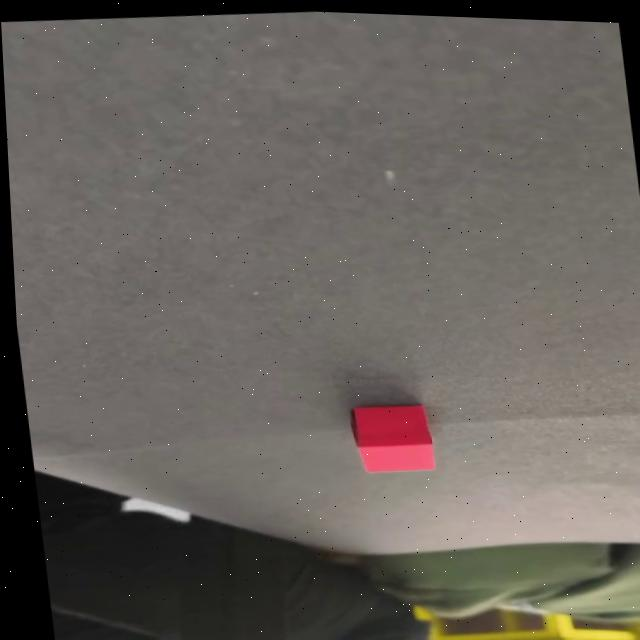red block: (347, 401, 437, 478)
